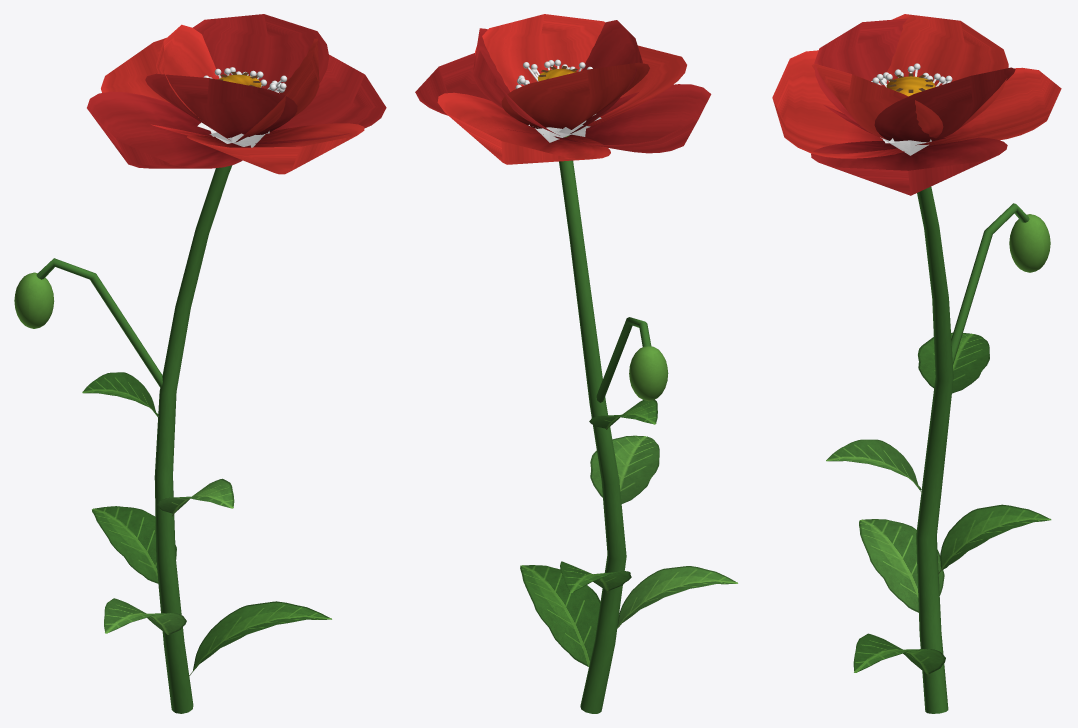
File: amapola_gigante.gltf
3 views of the same model, side by side, from view 1: azimuth 30°, elevation 25°; view 2: azimuth 150°, elevation 25°; view 3: azimuth 270°, elevation 25° (orthographic). The views are drawn at different scales.
Parts seen in each view (by area): view 1: amapola_gigante; view 2: amapola_gigante; view 3: amapola_gigante.
Part boxes in pixels (box(x1,y1,x2,y2)): amapola_gigante: box(14, 14, 386, 713); amapola_gigante: box(415, 14, 737, 713); amapola_gigante: box(772, 14, 1061, 713).
Bounding box in the file's own units: 1.4 × 2.94 × 1.13.
9 materials, 9 textured.
